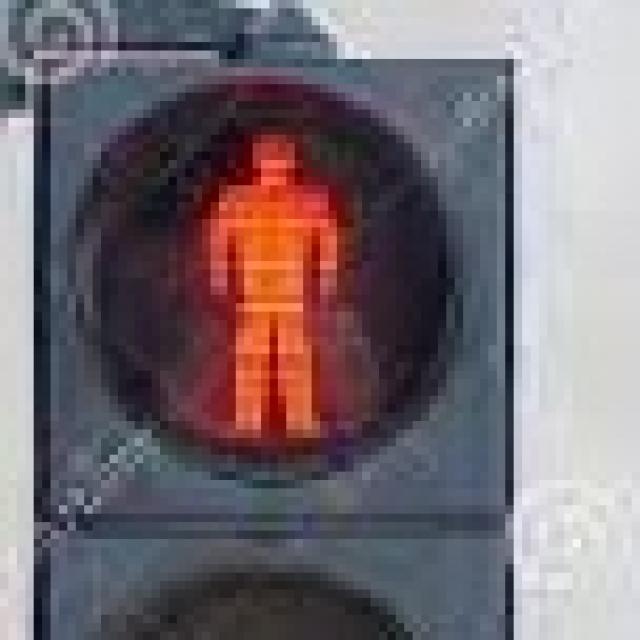red_light: (160, 110, 371, 447)
